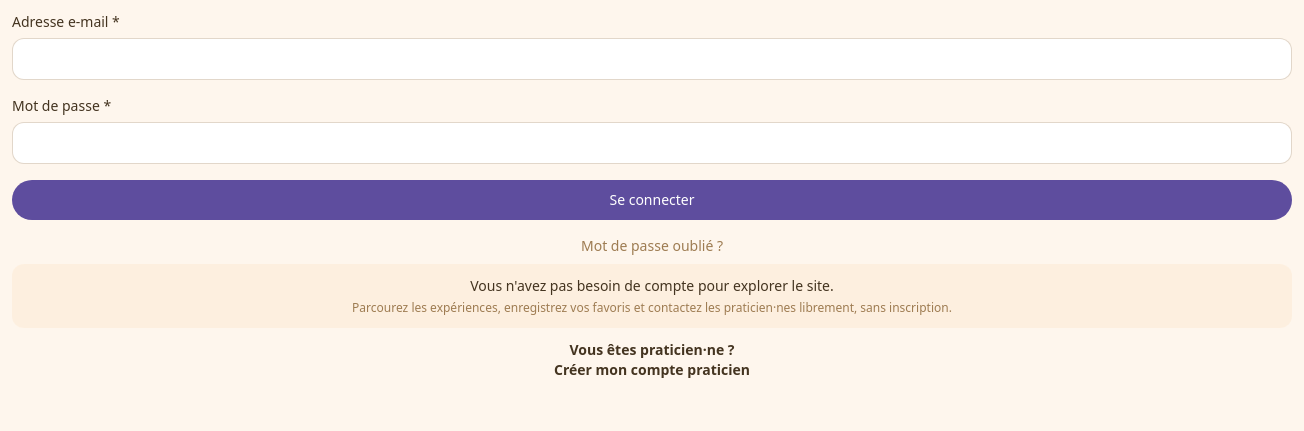
Test: conserve l’e-mail après refus du mot de passe
Step 1. Type "test@example.test" into the field labelled "Adresse e-mail *" → (652, 59), box left=12, top=38, right=1292, bottom=80
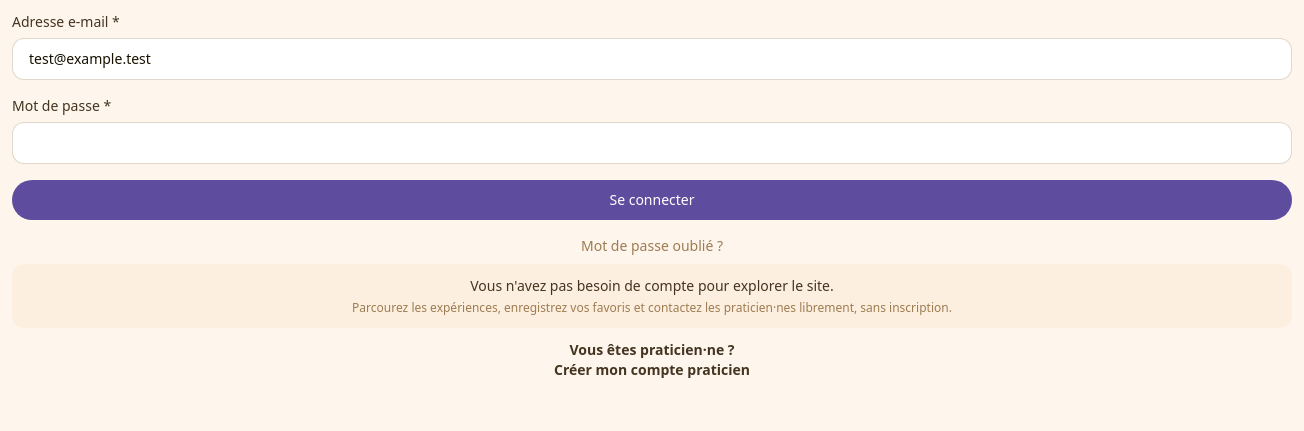
Step 2. Submit the form labelled "Adresse e-mail *"
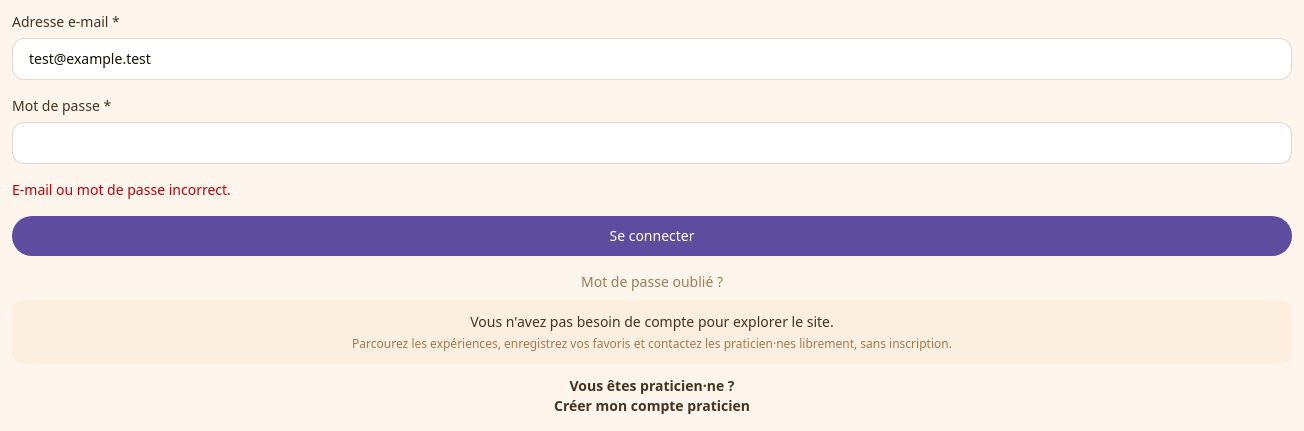
Expected: the text "E-mail ou mot de passe incorrect." is shown, left=12, top=180, right=231, bottom=199
